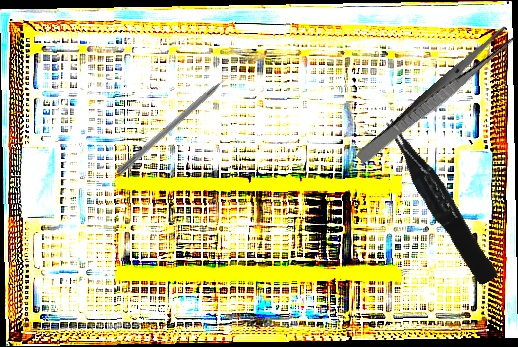Dressing Forceps: (354, 23, 517, 170)
Pusher: (115, 65, 242, 178)
Tissue Forceps: (381, 110, 499, 291)
